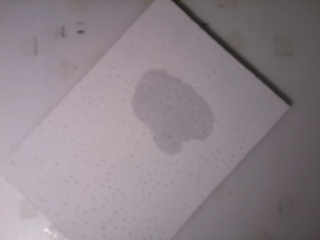Water_detected: (140, 77, 213, 141)
